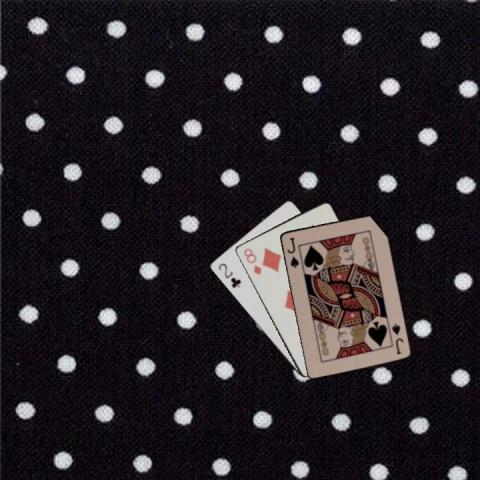2c: (215, 260, 242, 289)
8d: (240, 245, 262, 277)
Js: (284, 234, 300, 269), (389, 321, 404, 355)
